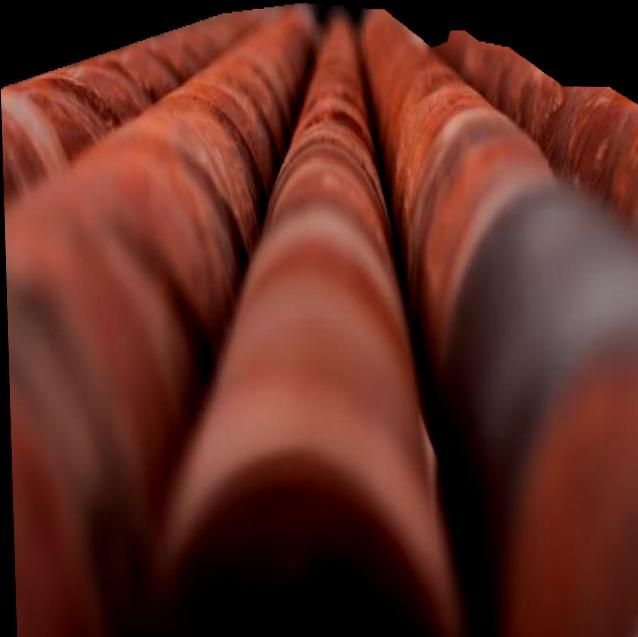Uniform Corrosion: (0, 1, 638, 637)
